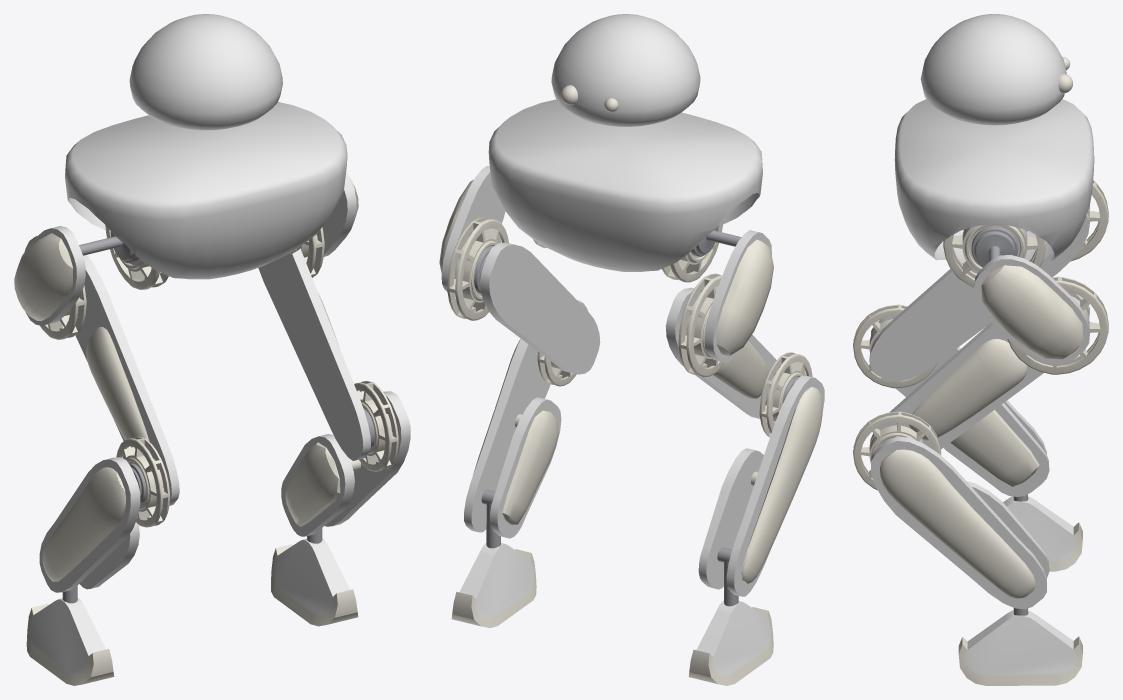
Rendered from bipedAgent.fbx.
3 views of the same model, side by side, from view 1: azimuth 30°, elevation 25°; view 2: azimuth 150°, elevation 25°; view 3: azimuth 270°, elevation 25° (orthographic). The views are drawn at different scales.
Parts seen in each view (by area): view 1: Body, Head, LowerLeg_L, LowerLeg_R, MiddleLeg_R, MiddleLeg_L, UpperLeg_L, Foot_L, Foot_R, UpperLeg_R; view 2: Body, LowerLeg_L, Head, MiddleLeg_R, LowerLeg_R, UpperLeg_L, MiddleLeg_L, Foot_R, Foot_L, UpperLeg_R; view 3: Body, LowerLeg_R, Head, UpperLeg_R, MiddleLeg_R, MiddleLeg_L, LowerLeg_L, Foot_R, Foot_L.
Boxes of the visible parts, x1,y1,x2,y2 form: Body: [65, 102, 347, 279]; Head: [129, 14, 282, 130]; LowerLeg_L: [39, 436, 170, 592]; LowerLeg_R: [281, 381, 410, 536]; MiddleLeg_R: [258, 227, 370, 460]; MiddleLeg_L: [24, 235, 179, 506]; UpperLeg_L: [14, 225, 168, 325]; Foot_L: [26, 586, 114, 685]; Foot_R: [271, 528, 358, 626]; UpperLeg_R: [288, 172, 358, 258]; Body: [488, 99, 762, 271]; LowerLeg_L: [698, 352, 824, 596]; Head: [551, 14, 700, 126]; MiddleLeg_R: [447, 217, 600, 374]; LowerLeg_R: [464, 300, 588, 538]; UpperLeg_L: [662, 219, 773, 362]; MiddleLeg_L: [665, 273, 778, 419]; Foot_R: [451, 489, 536, 627]; Foot_L: [688, 547, 773, 685]; UpperLeg_R: [439, 166, 546, 296]; Body: [894, 99, 1094, 263]; LowerLeg_R: [853, 411, 1049, 609]; Head: [920, 14, 1072, 125]; UpperLeg_R: [943, 224, 1089, 365]; MiddleLeg_R: [869, 276, 1108, 449]; MiddleLeg_L: [869, 179, 1108, 381]; LowerLeg_L: [853, 304, 1049, 496]; Foot_R: [958, 608, 1082, 685]; Foot_L: [1003, 494, 1082, 571].
Size of the model in its own units: 282 by 537 by 208.
Materials: 3 (1 with a texture image).
